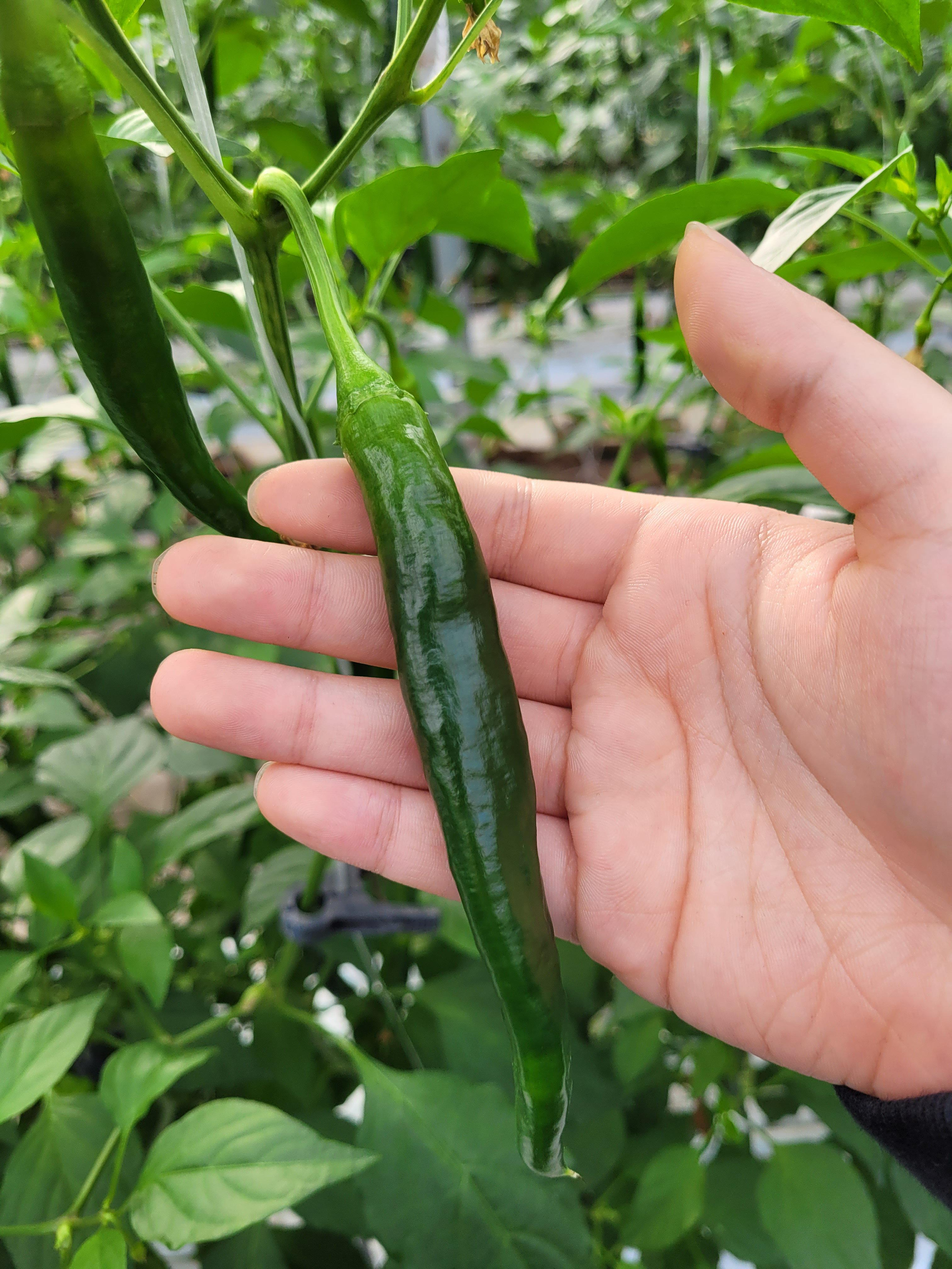Buah Cabai Sehat: (323, 361, 584, 1180), (0, 0, 270, 543)
